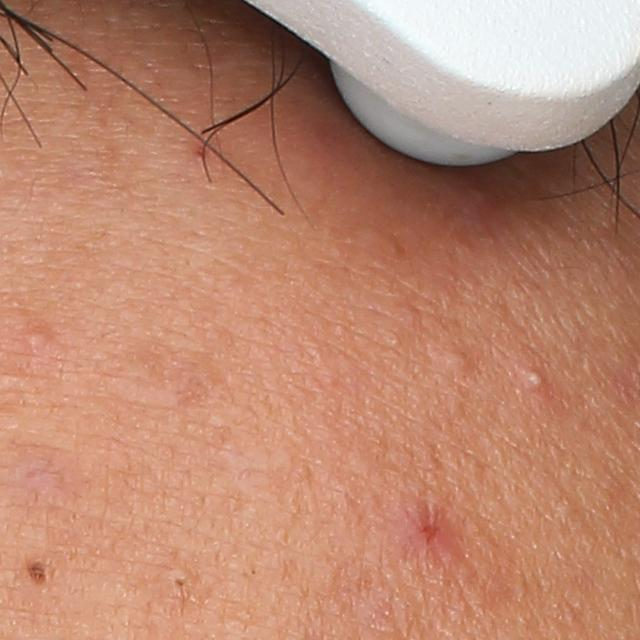comedo: (433, 347, 477, 383)
nevus: (22, 552, 54, 601)
pustule: (519, 365, 554, 397)
